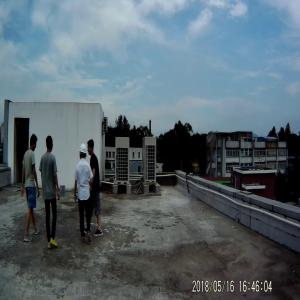none: (45, 135, 55, 156), (29, 133, 38, 155), (87, 139, 96, 159)
white: (79, 142, 89, 162)
